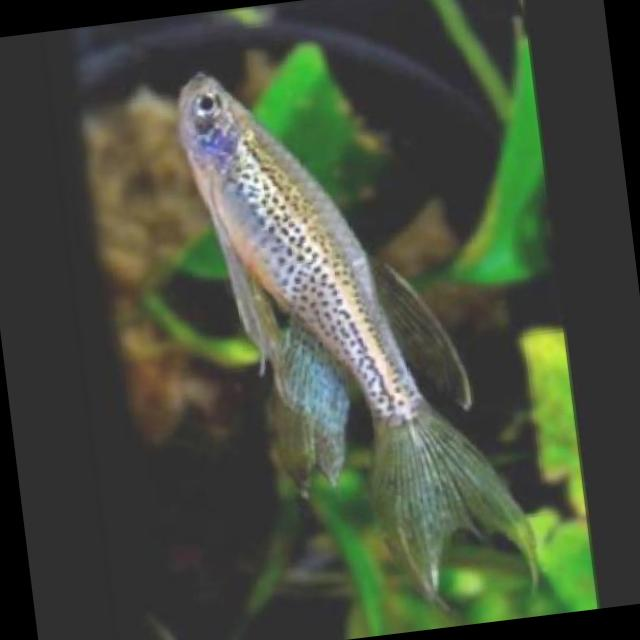ZebraFish: (172, 43, 428, 463)
